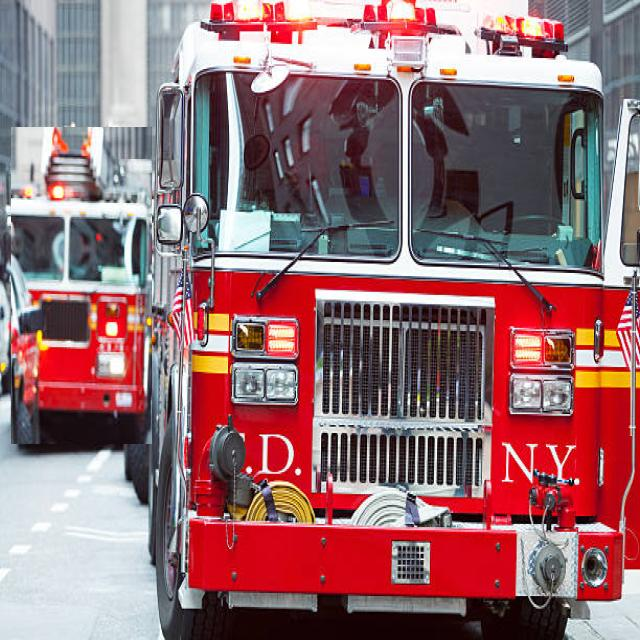emergency: (149, 0, 640, 638), (11, 127, 152, 444)
